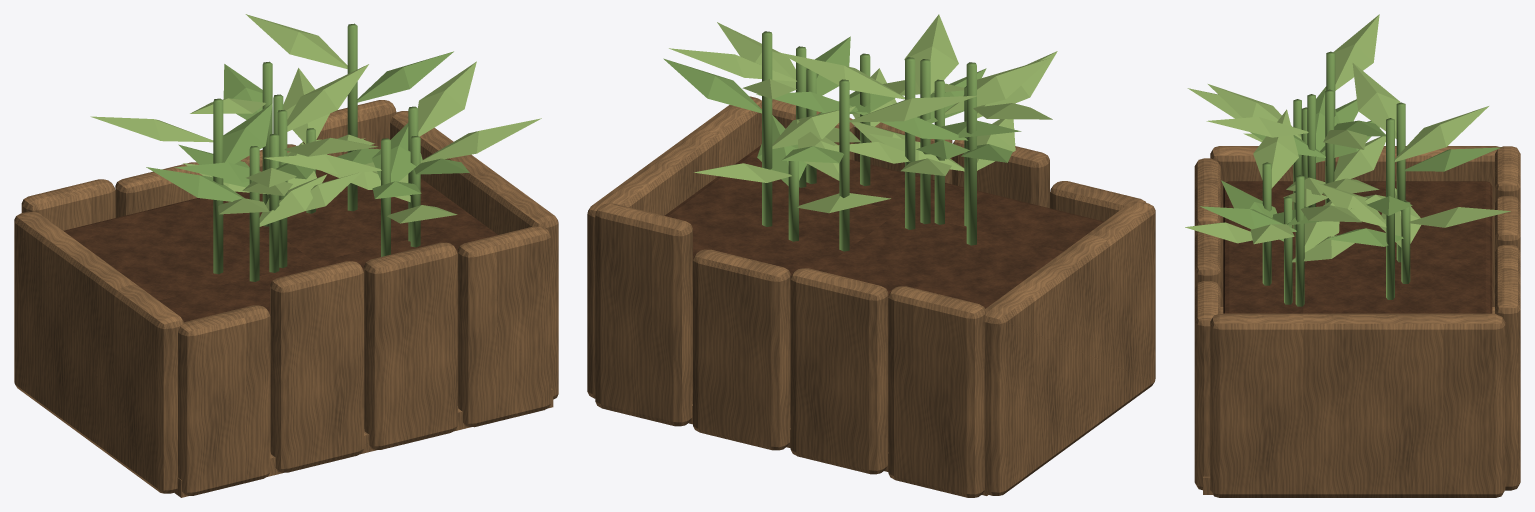
File: planter-before.glb
3 renders of one model, left to right at view 1: azimuth 30°, elevation 25°; view 2: azimuth 150°, elevation 25°; view 3: azimuth 270°, elevation 25°, orthographic. The views are drawn at different scales.
Visible parts, largest first — view 1: GEO-PlanterV2-Wood, GEO-PlanterV2-Soil, GEO-PlanterV2-PlantGreen, GEO-PlanterV2-PlantGreenLight; view 2: GEO-PlanterV2-Wood, GEO-PlanterV2-Soil, GEO-PlanterV2-PlantGreen, GEO-PlanterV2-PlantGreenLight; view 3: GEO-PlanterV2-Wood, GEO-PlanterV2-Soil, GEO-PlanterV2-PlantGreenLight, GEO-PlanterV2-PlantGreen.
Boxes of the visible parts, left/top/right/bottom form: GEO-PlanterV2-Wood: left=14, top=100, right=558, bottom=497; GEO-PlanterV2-Soil: left=63, top=169, right=497, bottom=322; GEO-PlanterV2-PlantGreen: left=146, top=23, right=469, bottom=281; GEO-PlanterV2-PlantGreenLight: left=90, top=14, right=541, bottom=226; GEO-PlanterV2-Wood: left=587, top=96, right=1155, bottom=497; GEO-PlanterV2-Soil: left=664, top=145, right=1103, bottom=308; GEO-PlanterV2-PlantGreen: left=663, top=31, right=1021, bottom=251; GEO-PlanterV2-PlantGreenLight: left=669, top=14, right=1057, bottom=213; GEO-PlanterV2-Wood: left=1194, top=146, right=1520, bottom=497; GEO-PlanterV2-Soil: left=1223, top=181, right=1492, bottom=313; GEO-PlanterV2-PlantGreenLight: left=1185, top=14, right=1510, bottom=262; GEO-PlanterV2-PlantGreen: left=1200, top=51, right=1500, bottom=306.
Bounding box in the file's own units: 1.19 × 0.95 × 0.89.
4 materials, 2 textured.
